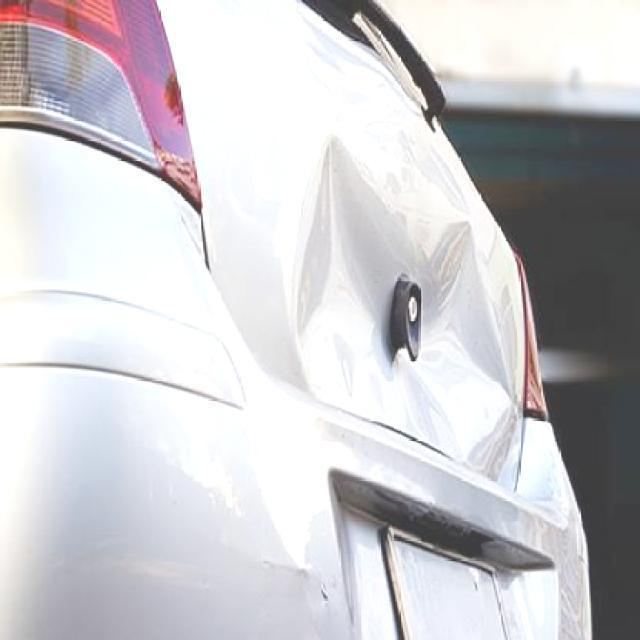minor: (314, 574, 334, 640)
moderate: (285, 5, 526, 480)
